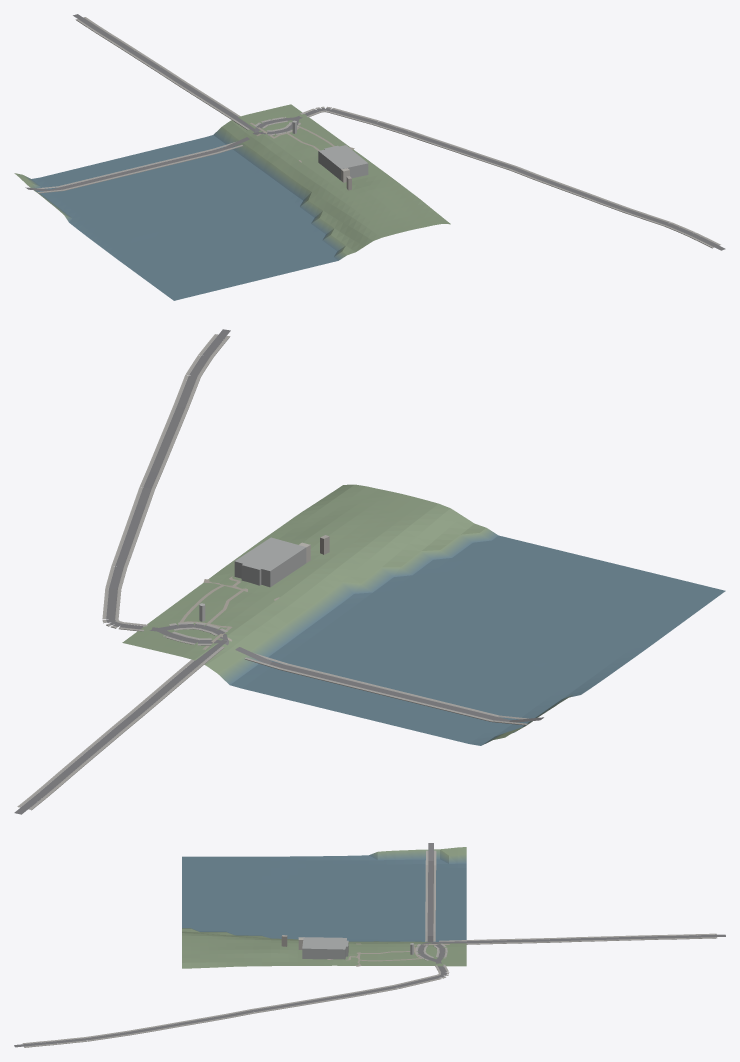
The model's file is tile_7_-4.glb.
3 views of the same model, one above another, from view 1: azimuth 30°, elevation 25°; view 2: azimuth 150°, elevation 25°; view 3: azimuth 270°, elevation 25° (orthographic). The views are drawn at different scales.
Visible parts, largest first — view 1: terrain, sidewalks, roads, buildings; view 2: terrain, roads, sidewalks, buildings; view 3: terrain, sidewalks, roads, buildings.
Boxes of the visible parts, <box> form: terrain: <box>14,104,450,300</box>; sidewalks: <box>37,17,720,248</box>; roads: <box>25,14,725,250</box>; buildings: <box>292,120,368,190</box>; terrain: <box>122,484,725,745</box>; roads: <box>14,329,543,814</box>; sidewalks: <box>17,334,528,810</box>; buildings: <box>199,535,329,621</box>; terrain: <box>182,847,466,968</box>; sidewalks: <box>22,850,717,1047</box>; roads: <box>14,843,725,1047</box>; buildings: <box>281,935,413,959</box>.
Size of the model in its own units: 430 by 21.73 by 640.
